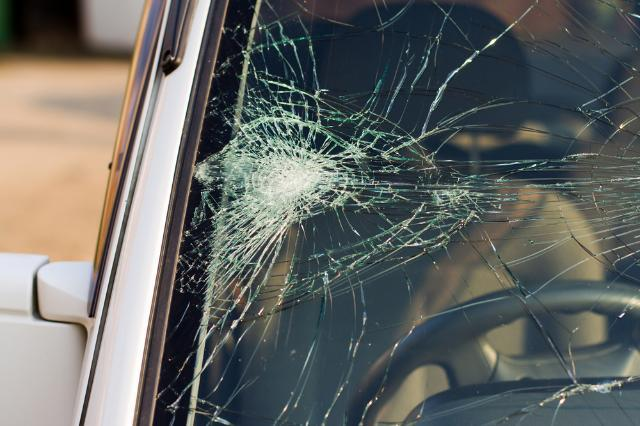glass shatter: (151, 0, 640, 426)
